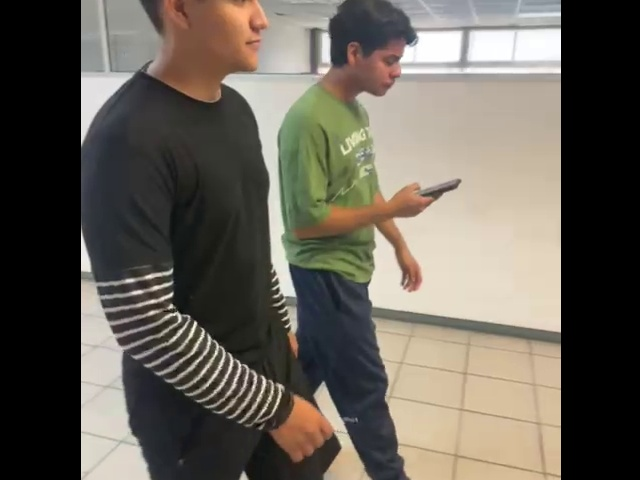mixto2: (414, 169, 466, 200)
